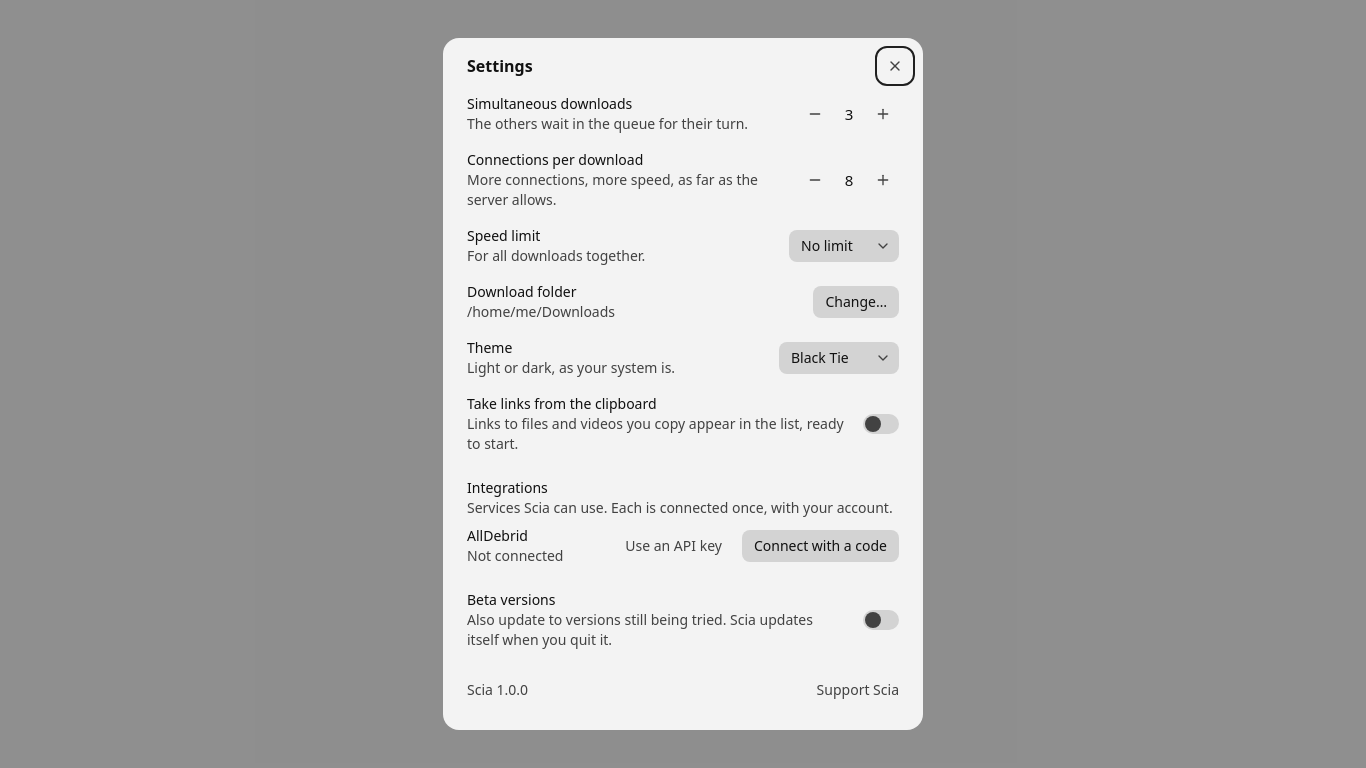
Test: SettingsDialog › changes the folder through the desktop shell, naming no path itself, and shows what the engine kept
Click the button "Change…". click: (856,302)
box: [813,286,899,318]
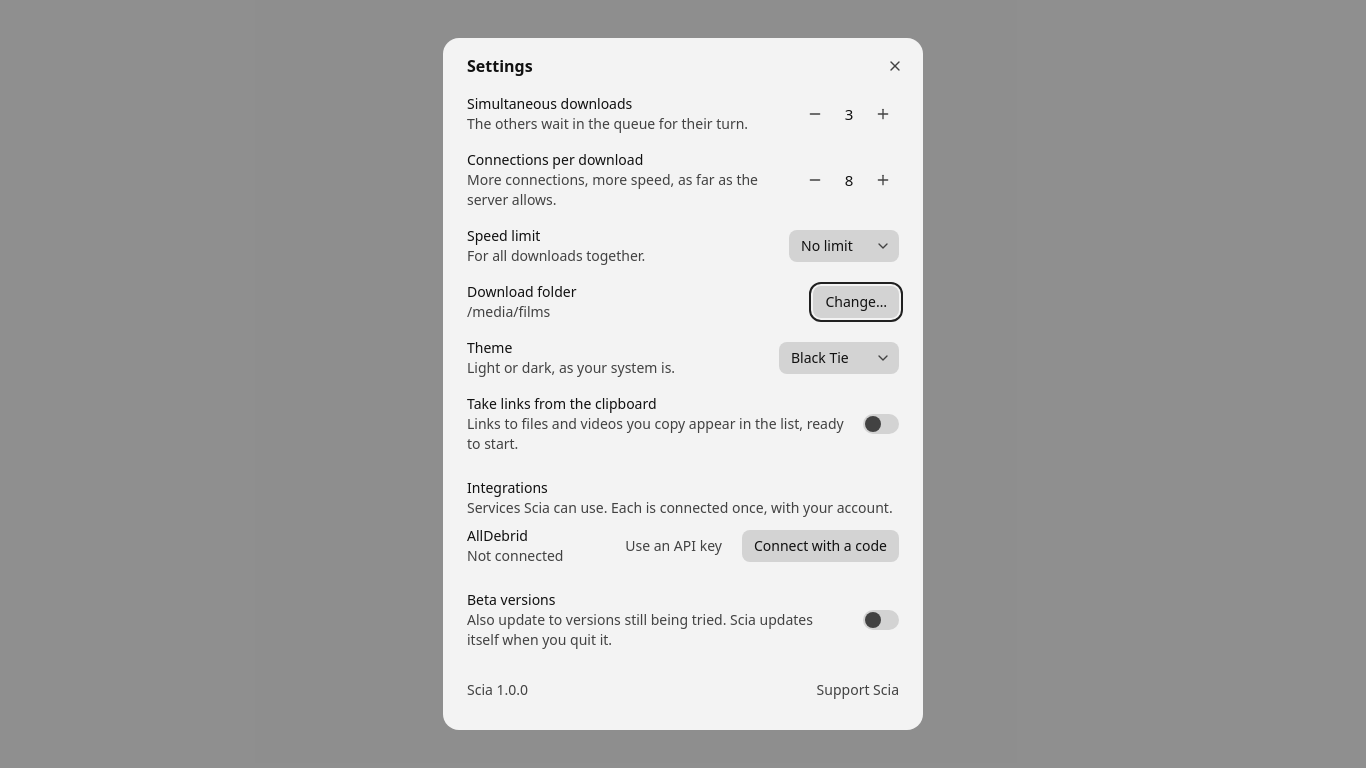
Result: the text "/media/films" is shown at [467,302,550,321]
